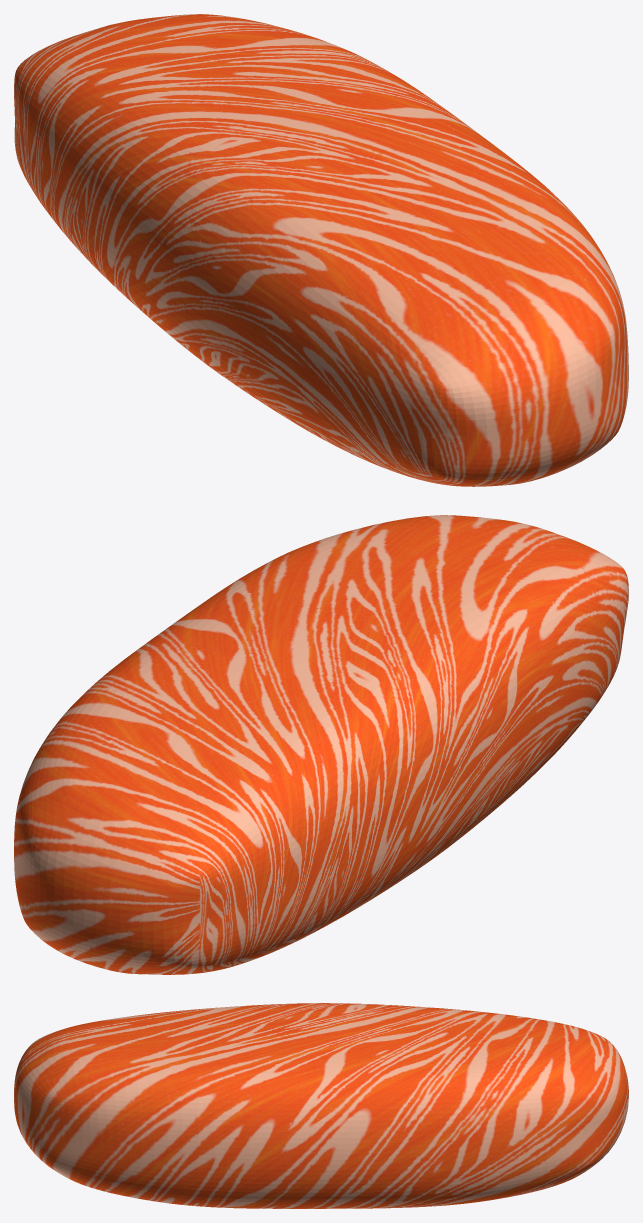
File: tekilet.fbx
The picture shows the model from 3 angles, top to bottom: view 1: azimuth 30°, elevation 25°; view 2: azimuth 150°, elevation 25°; view 3: azimuth 270°, elevation 25°; orthographic projection. The views are drawn at different scales.
Parts seen in each view (by area): view 1: somondada.001; view 2: somondada.001; view 3: somondada.001.
Part boxes in pixels (box(x1,y1,x2,y2)): somondada.001: box(14, 14, 628, 486); somondada.001: box(14, 515, 628, 974); somondada.001: box(14, 1003, 628, 1208).
Size of the model in its own units: 30.06 by 19.69 by 73.28.
